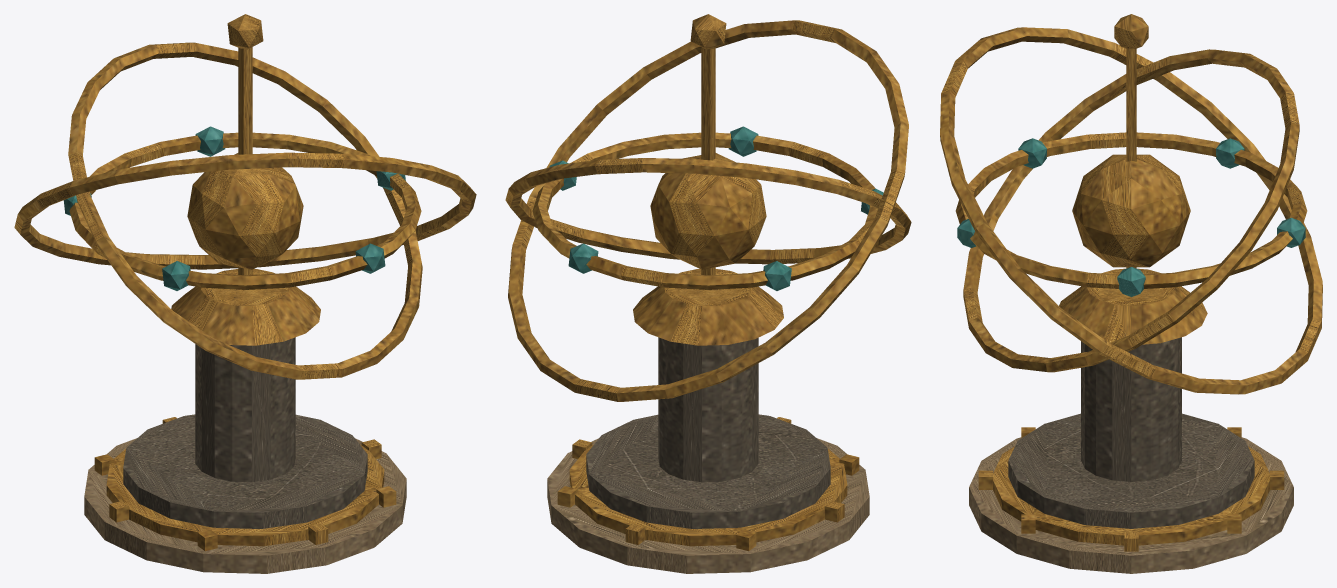
File: central-orrery.glb
3 renders of one model, left to right at view 1: azimuth 30°, elevation 25°; view 2: azimuth 150°, elevation 25°; view 3: azimuth 270°, elevation 25°, orthographic.
Visible parts, largest first — view 1: central-orrery; view 2: central-orrery; view 3: central-orrery.
Boxes of the visible parts, x1,y1,x2,y2 form: central-orrery: [14, 14, 476, 573]; central-orrery: [505, 14, 911, 573]; central-orrery: [940, 14, 1322, 573].
Size of the model in its own units: 4 by 4.84 by 3.42.
1 material, 1 textured.
